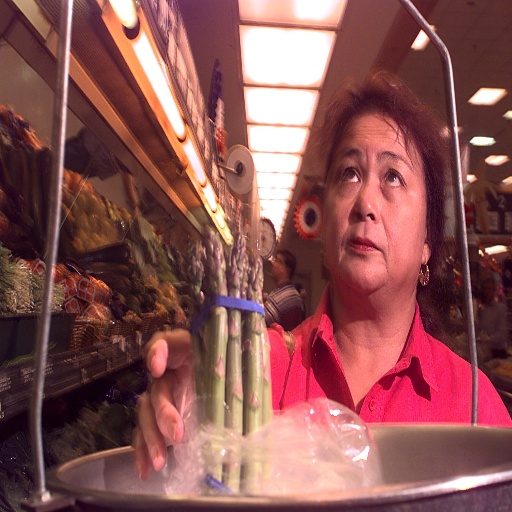hand: (128, 326, 198, 472)
